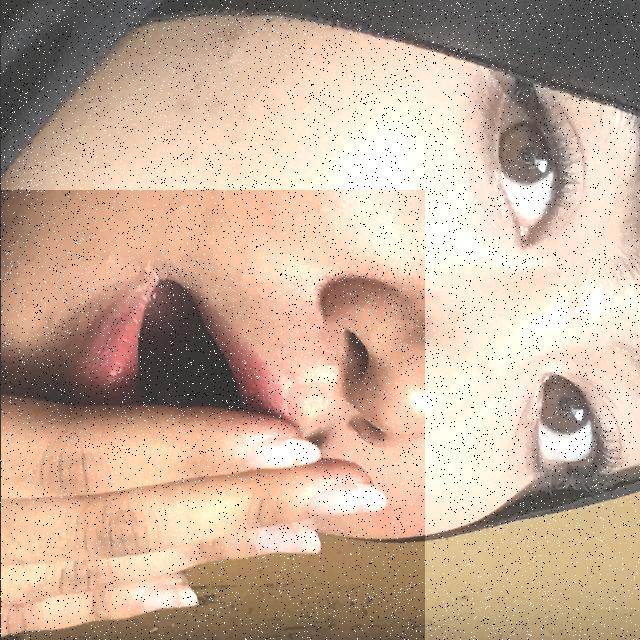ngantuk: (0, 190, 424, 640)
